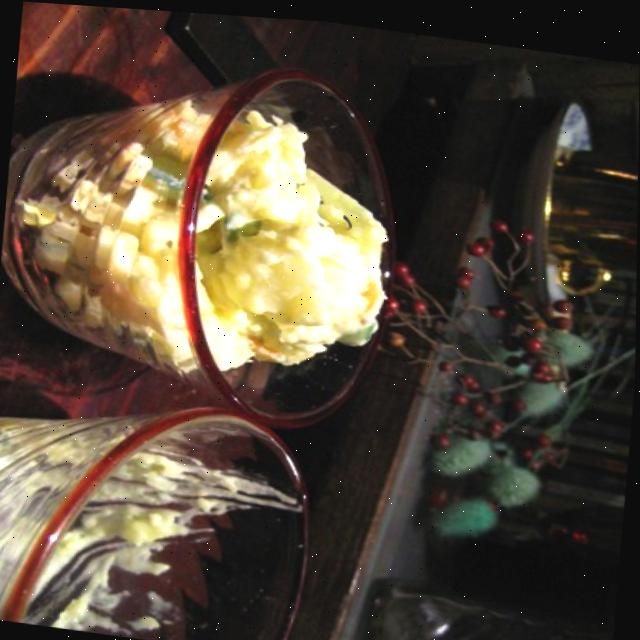蔬菜料理: (0, 27, 417, 440)
